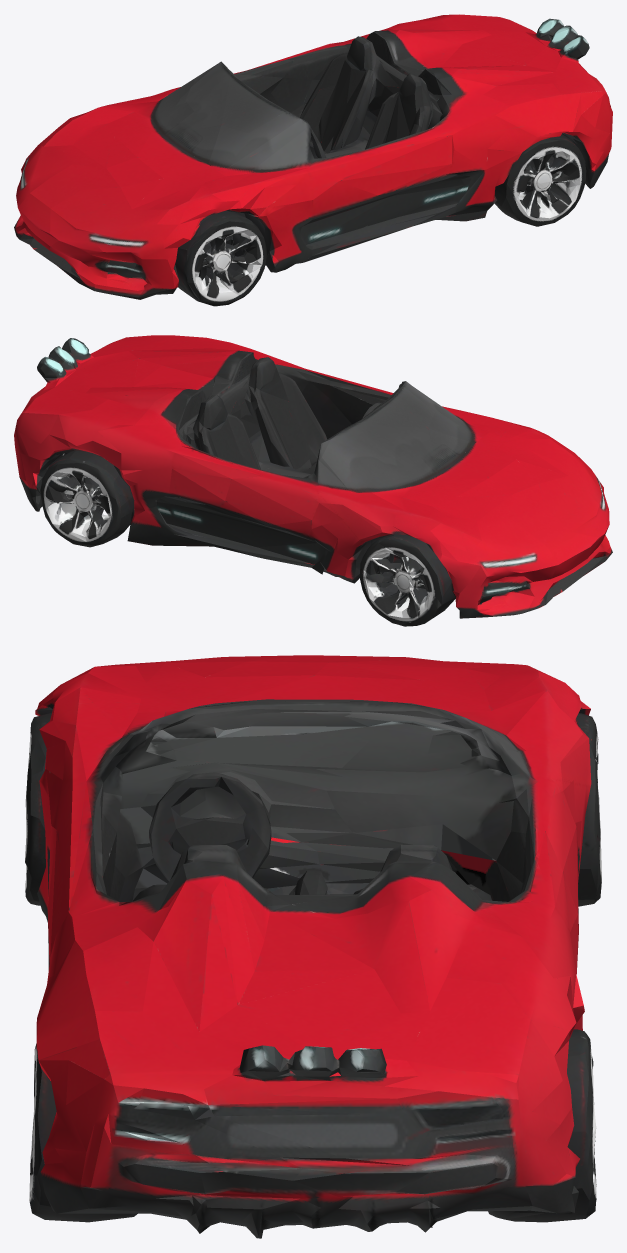
File: roadster.glb
3 renders of one model, top to bottom at view 1: azimuth 30°, elevation 25°; view 2: azimuth 150°, elevation 25°; view 3: azimuth 270°, elevation 25°, orthographic. The views are drawn at different scales.
Visible parts, largest first — view 1: output_unwrapped; view 2: output_unwrapped; view 3: output_unwrapped.
Boxes of the visible parts, bbox=[...] form: output_unwrapped: bbox=[14, 14, 612, 306]; output_unwrapped: bbox=[14, 335, 612, 626]; output_unwrapped: bbox=[25, 655, 601, 1238].
Size of the model in its own units: 1.9 by 0.4837 by 0.881.
Materials: 1 (1 with a texture image).
